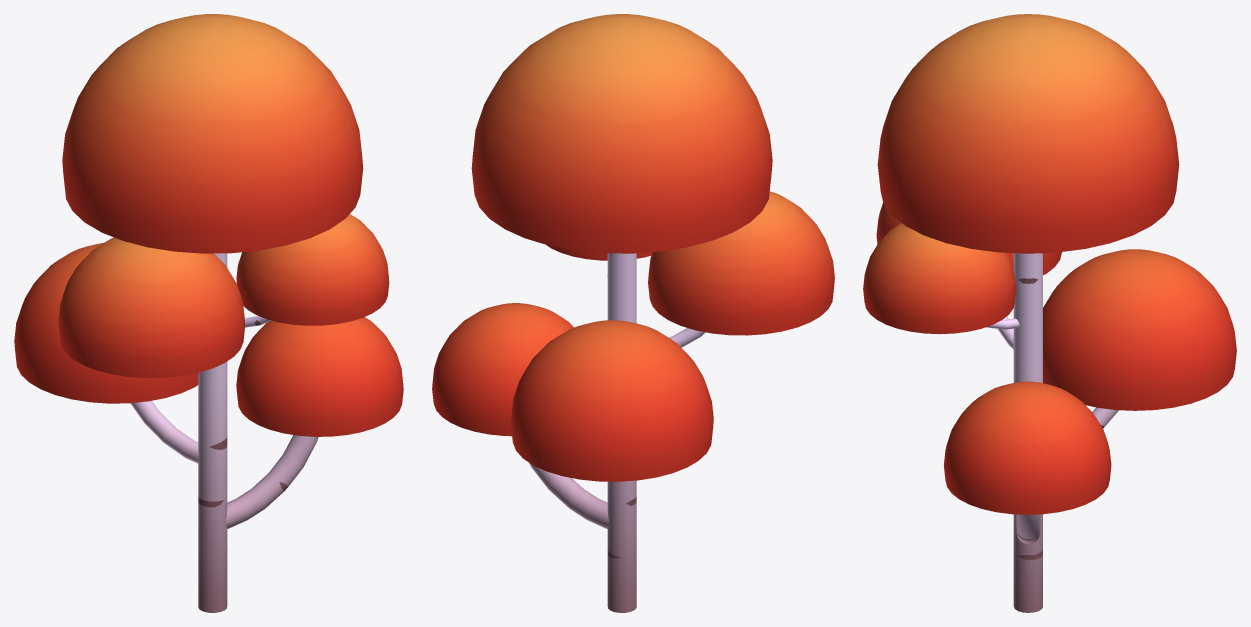
The model's file is Tree02.FBX.
3 renders of one model, left to right at view 1: azimuth 30°, elevation 25°; view 2: azimuth 150°, elevation 25°; view 3: azimuth 270°, elevation 25°, orthographic.
Visible parts, largest first — view 1: pasted__Tree07; view 2: pasted__Tree07; view 3: pasted__Tree07.
Part boxes in pixels (x1,y1,x2,y2): pasted__Tree07: [14, 14, 403, 612]; pasted__Tree07: [432, 14, 834, 612]; pasted__Tree07: [863, 14, 1236, 612].
Bounding box in the file's own units: 132 × 208 × 122.
